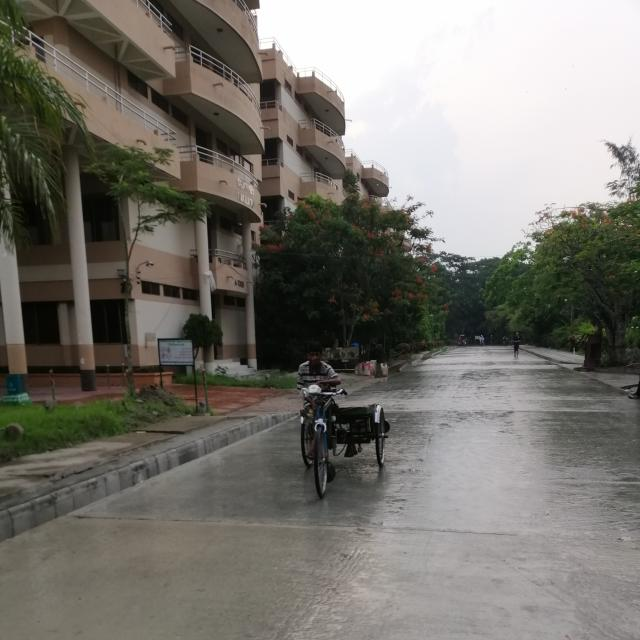Van: (290, 384, 394, 507)
